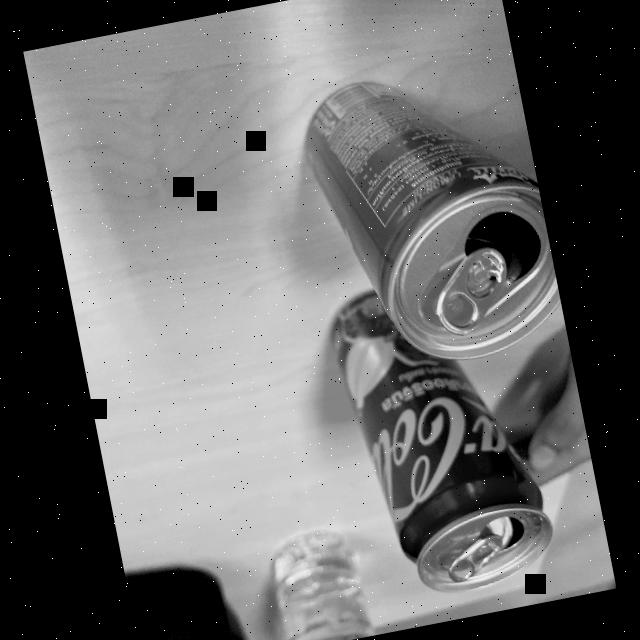can: (261, 59, 568, 388), (306, 260, 566, 626)
